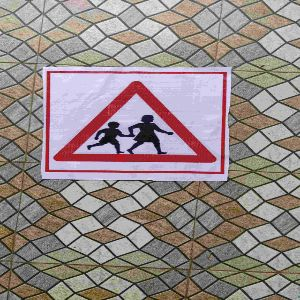schools: (48, 75, 223, 173)
